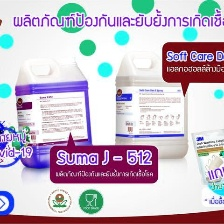cleaning_solution: (12, 54, 96, 171), (112, 48, 190, 162), (188, 126, 224, 206)
